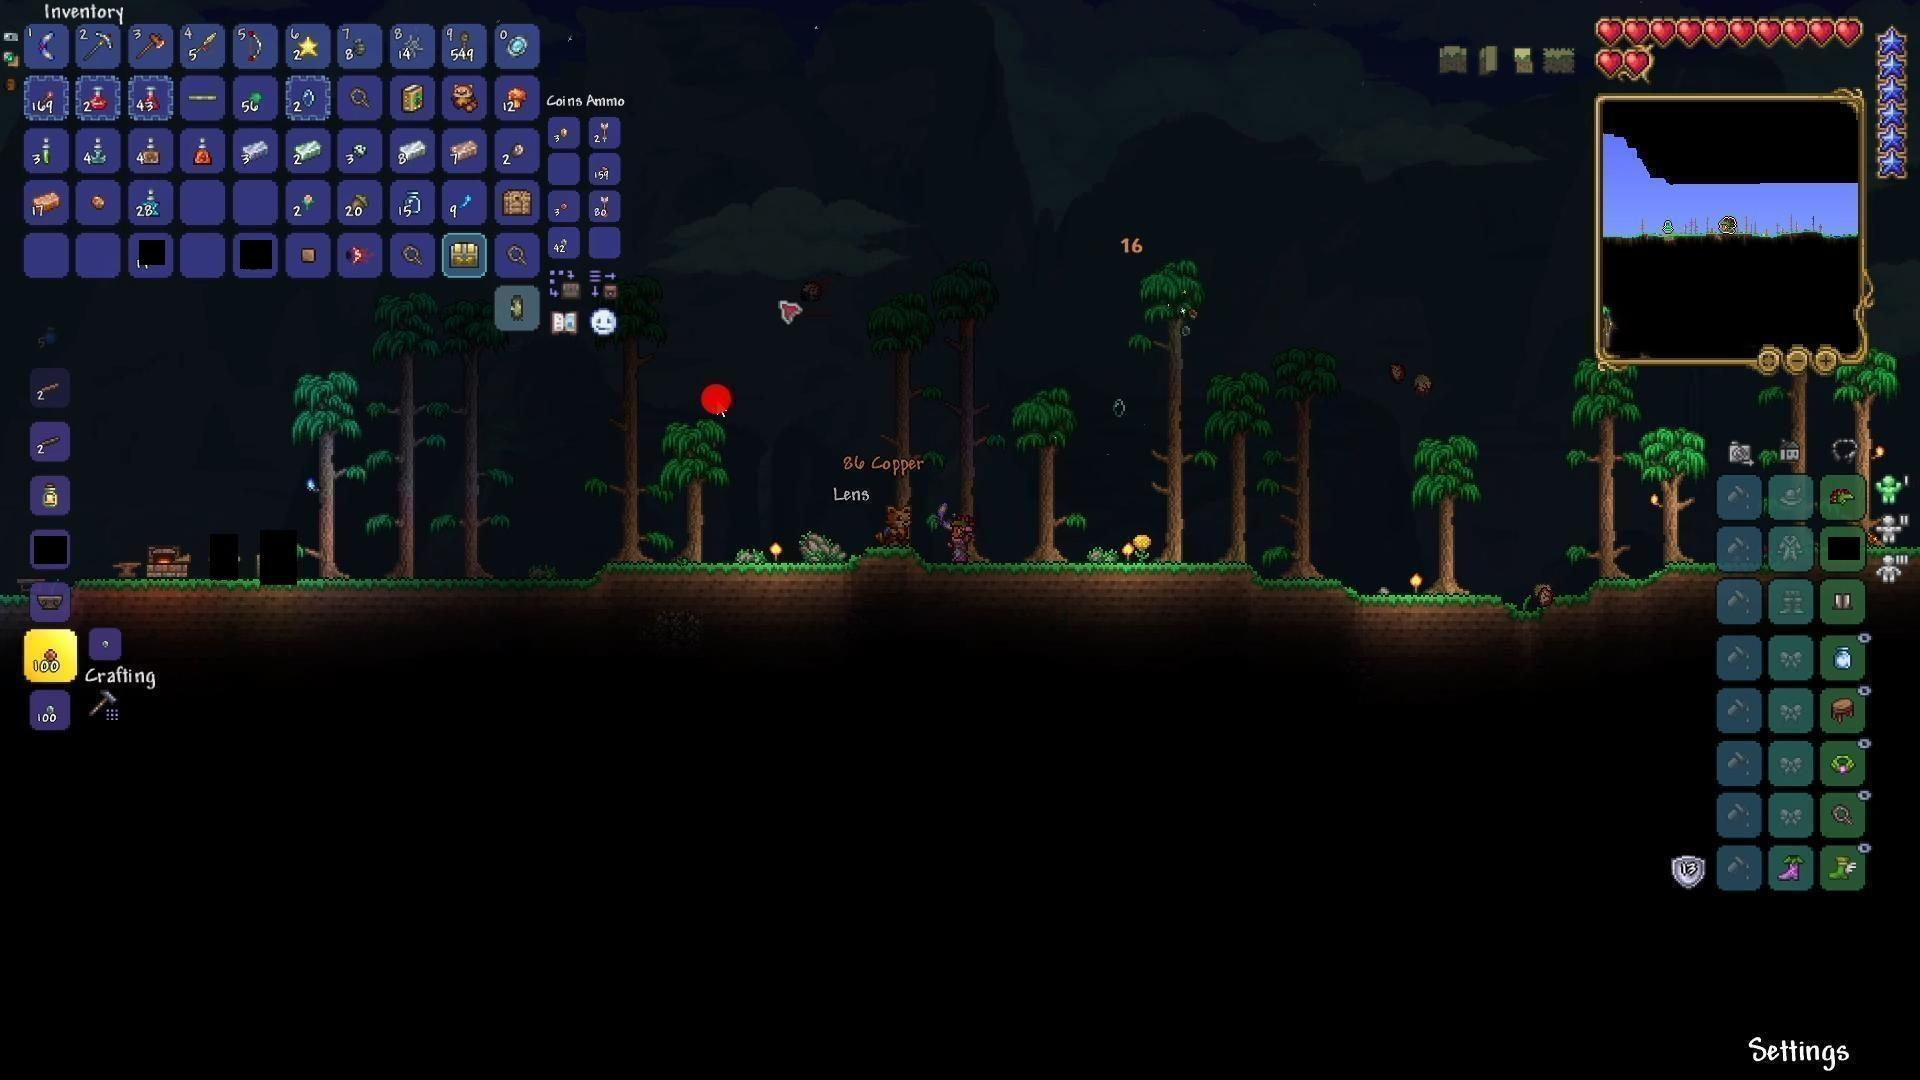legs: (1829, 588, 1855, 613)
